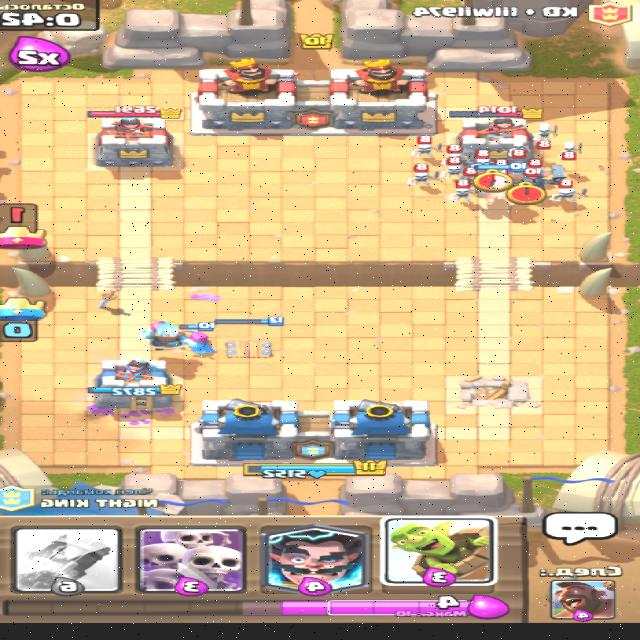Enemy-MiniPEKKA: (523, 158, 570, 189)
Enemy-Skeleton: (548, 178, 592, 203), (408, 162, 444, 187), (533, 122, 562, 150), (412, 135, 445, 158), (451, 178, 476, 202), (444, 156, 468, 179), (442, 142, 468, 163), (560, 140, 588, 159), (508, 140, 533, 156), (475, 148, 496, 164), (448, 144, 468, 158)
Player-Archer: (182, 322, 218, 356), (150, 317, 173, 330)
Player-HogRider: (475, 162, 530, 207)
Player-IceWizard: (142, 322, 190, 351)
Player-Tesla-Hidden: (214, 314, 290, 358)
